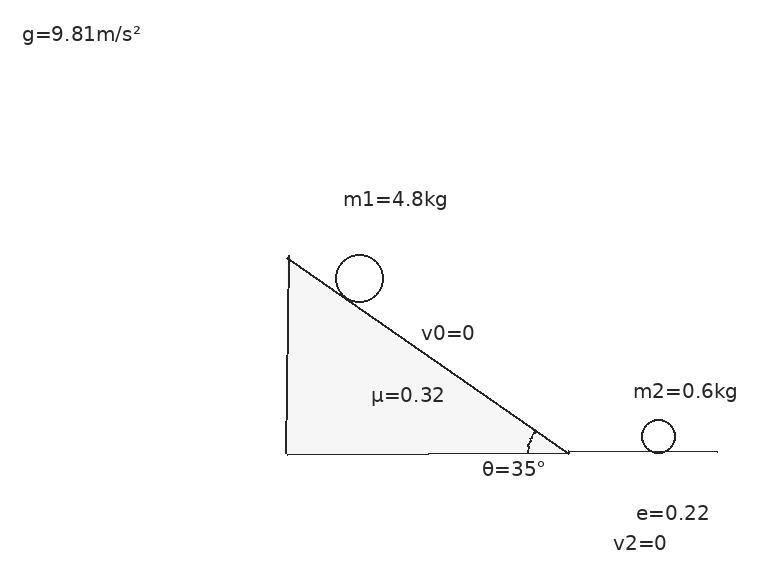ball: (333, 252, 385, 304), (639, 417, 677, 455)
ramp: (285, 254, 570, 455)
